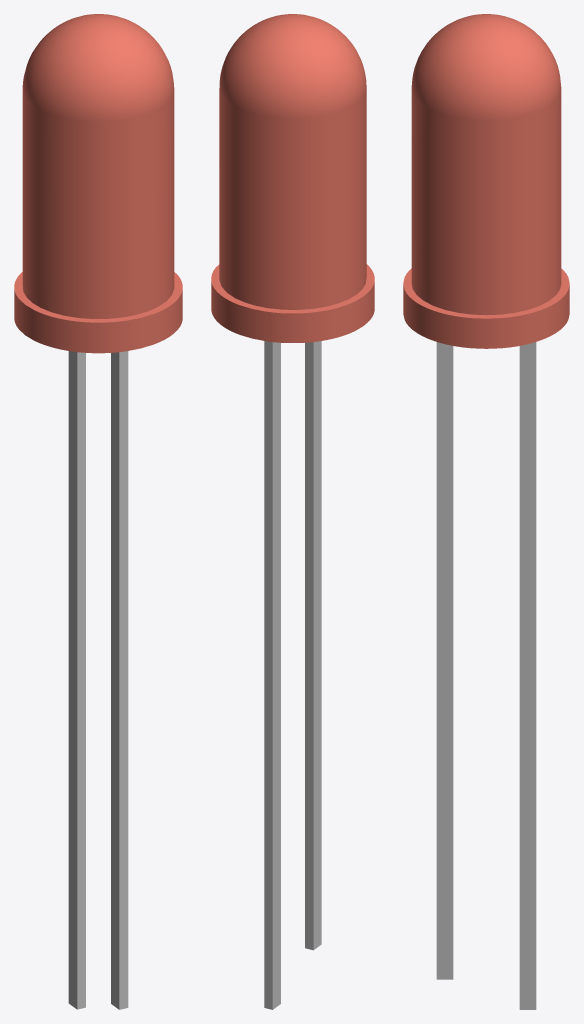
File: 0ad6aad9-bdc9-4310-96fd-edb12a6efc1a.glb
The picture shows the model from 3 angles, left to right: view 1: azimuth 30°, elevation 25°; view 2: azimuth 150°, elevation 25°; view 3: azimuth 270°, elevation 25°; orthographic projection. The views are drawn at different scales.
Visible parts, largest first — view 1: LED Glass, Cathode, Anode; view 2: LED Glass, Anode, Cathode; view 3: LED Glass, Anode, Cathode.
Boxes of the visible parts, x1,y1,x2,y2 form: LED Glass: [14, 14, 182, 353]; Cathode: [111, 351, 128, 1009]; Anode: [68, 351, 85, 1009]; LED Glass: [211, 14, 374, 342]; Anode: [264, 341, 280, 1009]; Cathode: [305, 341, 321, 950]; LED Glass: [403, 14, 569, 348]; Anode: [519, 342, 536, 1009]; Cathode: [436, 342, 453, 979].
Bounding box in the file's own units: 5 × 32.7 × 5.
